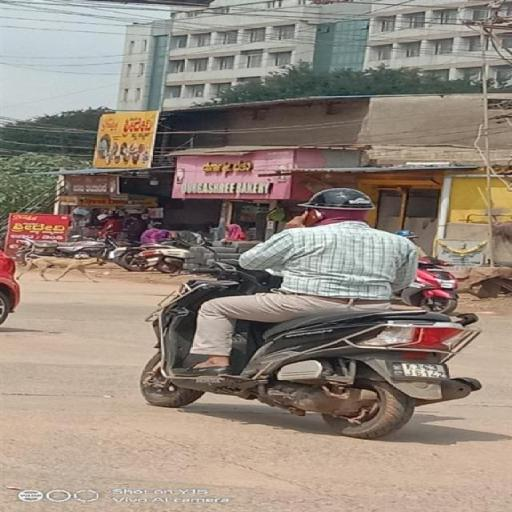using mobile: (290, 209, 324, 227)
